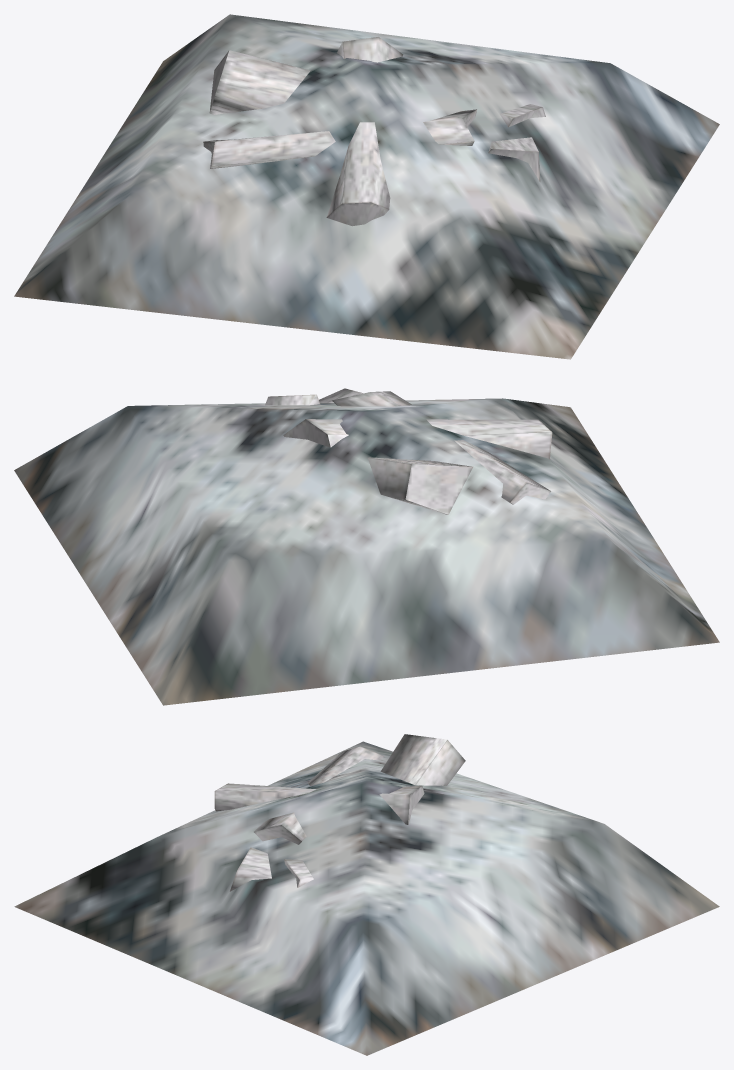
File: eqp_camping_log_ash_l2.fbx
3 views of the same model, one above another, from view 1: azimuth 30°, elevation 25°; view 2: azimuth 150°, elevation 25°; view 3: azimuth 270°, elevation 25° (orthographic). The views are drawn at different scales.
Parts seen in each view (by area): view 1: mesh_node; view 2: mesh_node; view 3: mesh_node.
Boxes of the visible parts, x1,y1,x2,y2 form: mesh_node: [14, 14, 719, 359]; mesh_node: [14, 388, 719, 705]; mesh_node: [14, 734, 719, 1055].
Bounding box in the file's own units: 1.26 × 0.254 × 1.26.
1 material, 1 textured.
